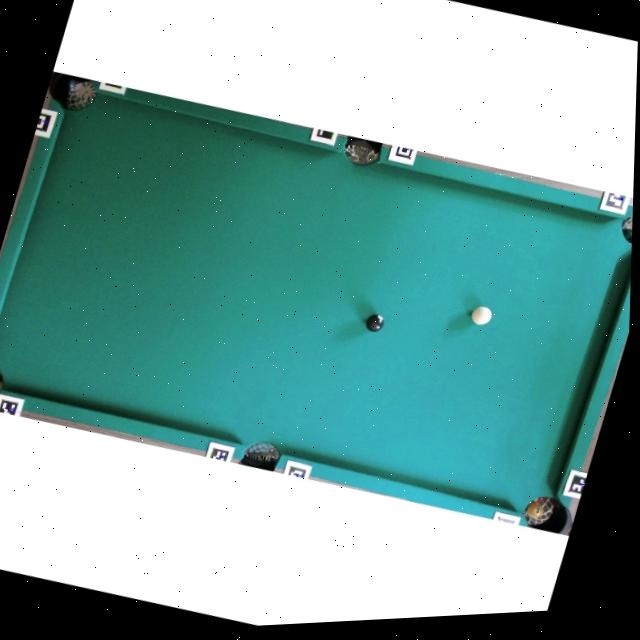cue ball: (468, 303, 494, 328)
other: (364, 310, 386, 334)
